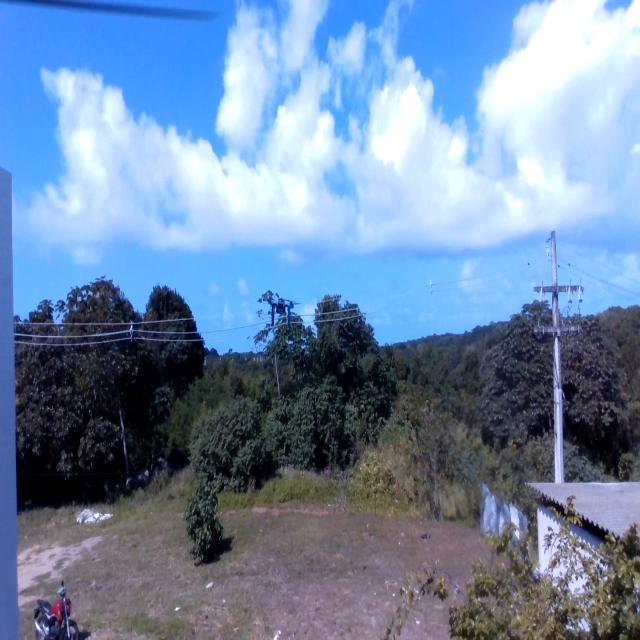-uav-: (260, 289, 301, 335)
